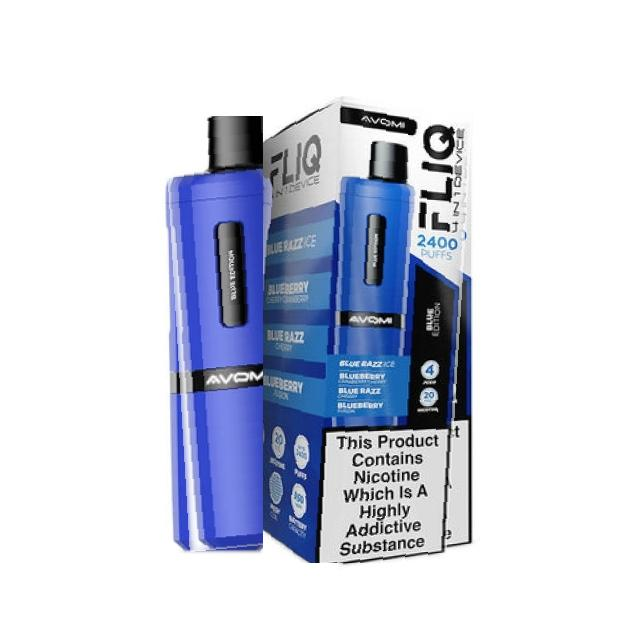Vapes: (264, 96, 474, 563), (164, 116, 279, 552)
